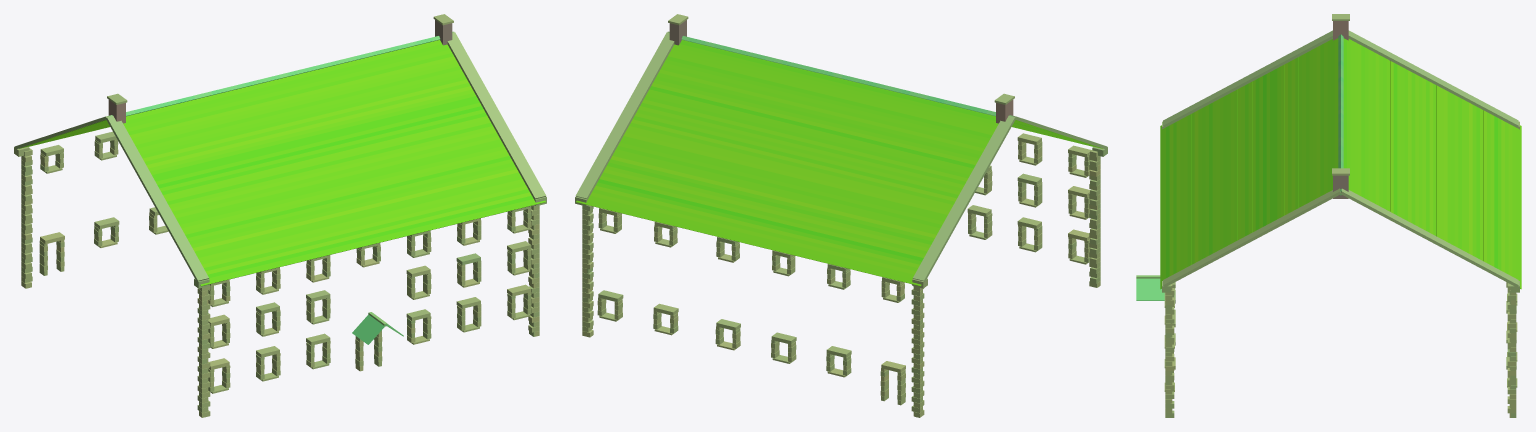
File: SM_Bld_046_Stone.glb
3 views of the same model, side by side, from view 1: azimuth 30°, elevation 25°; view 2: azimuth 150°, elevation 25°; view 3: azimuth 270°, elevation 25° (orthographic). The views are drawn at different scales.
Parts seen in each view (by area): view 1: SM_Bld_046_Stone; view 2: SM_Bld_046_Stone; view 3: SM_Bld_046_Stone.
Part boxes in pixels (x1,y1,x2,y2): SM_Bld_046_Stone: (14,14,546,417); SM_Bld_046_Stone: (575,14,1107,417); SM_Bld_046_Stone: (1136,14,1521,417).
Bounding box in the file's own units: 22.5 × 15.55 × 22.21.
